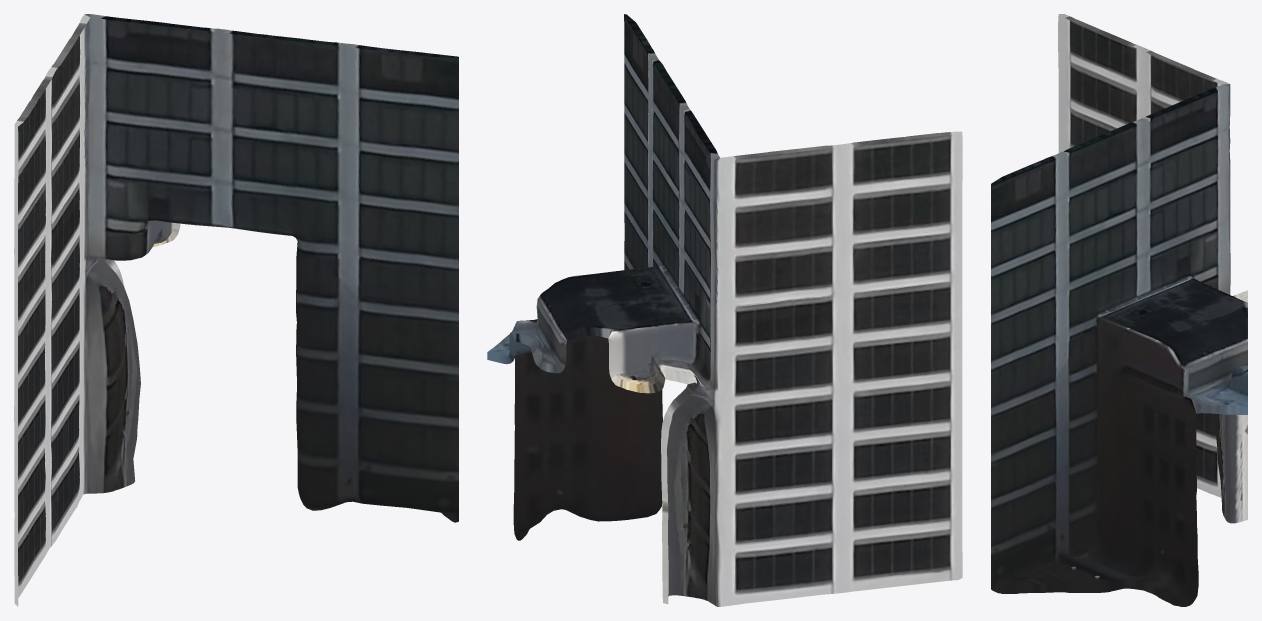
The model's file is z20-167787-405228-h1-yup-uvflip-v3-world.glb.
3 views of the same model, side by side, from view 1: azimuth 30°, elevation 25°; view 2: azimuth 150°, elevation 25°; view 3: azimuth 270°, elevation 25° (orthographic). The views are drawn at different scales.
Size of the model in its own units: 30.16 by 34.72 by 19.16.
Materials: 1 (1 with a texture image).
